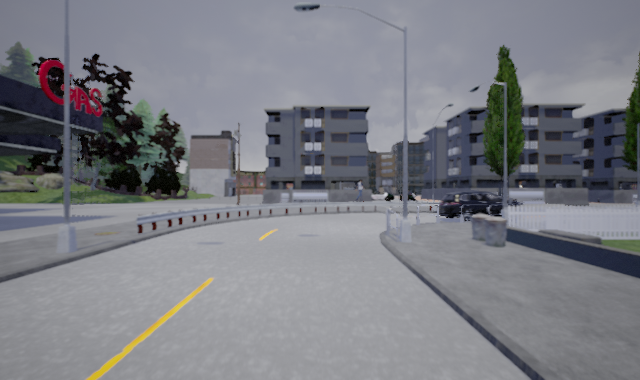vehicle: (435, 191, 525, 219)
